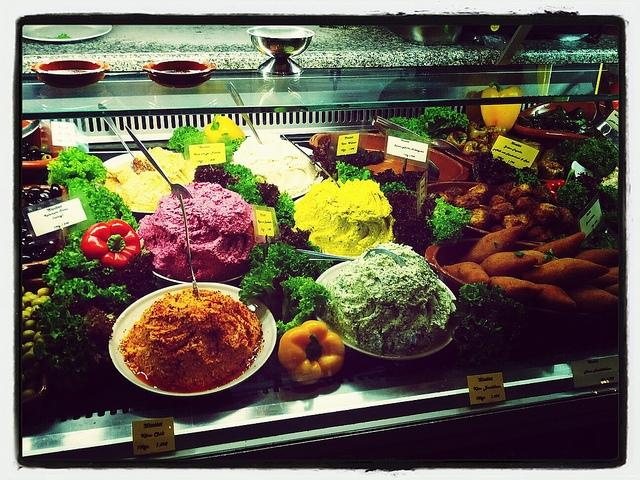bell pepper: (278, 320, 345, 385), (80, 219, 140, 271), (480, 80, 522, 133), (546, 179, 566, 201)
lettuce: (238, 240, 335, 340), (49, 176, 140, 272), (458, 282, 532, 343), (384, 190, 442, 258), (105, 251, 166, 306), (66, 300, 116, 364), (33, 330, 92, 380), (551, 137, 619, 178), (46, 145, 107, 190), (426, 196, 472, 246), (224, 162, 268, 206), (35, 307, 90, 341), (418, 106, 470, 140), (468, 150, 518, 185), (556, 179, 592, 220), (167, 125, 206, 160), (192, 164, 241, 189), (309, 138, 336, 182), (278, 222, 316, 252), (336, 160, 376, 184), (596, 166, 618, 203), (71, 277, 103, 301), (576, 172, 604, 198), (255, 180, 280, 208), (392, 171, 426, 191), (275, 190, 296, 220), (379, 181, 416, 195), (370, 168, 396, 186), (518, 172, 542, 186), (232, 136, 246, 152), (40, 33, 70, 40)
potato: (514, 257, 610, 290), (458, 226, 526, 266), (560, 284, 618, 313), (479, 252, 538, 278), (532, 232, 586, 259), (488, 276, 544, 302), (530, 284, 576, 310), (442, 262, 492, 284), (573, 249, 618, 267), (584, 267, 618, 290), (518, 250, 559, 266), (602, 284, 618, 296)
